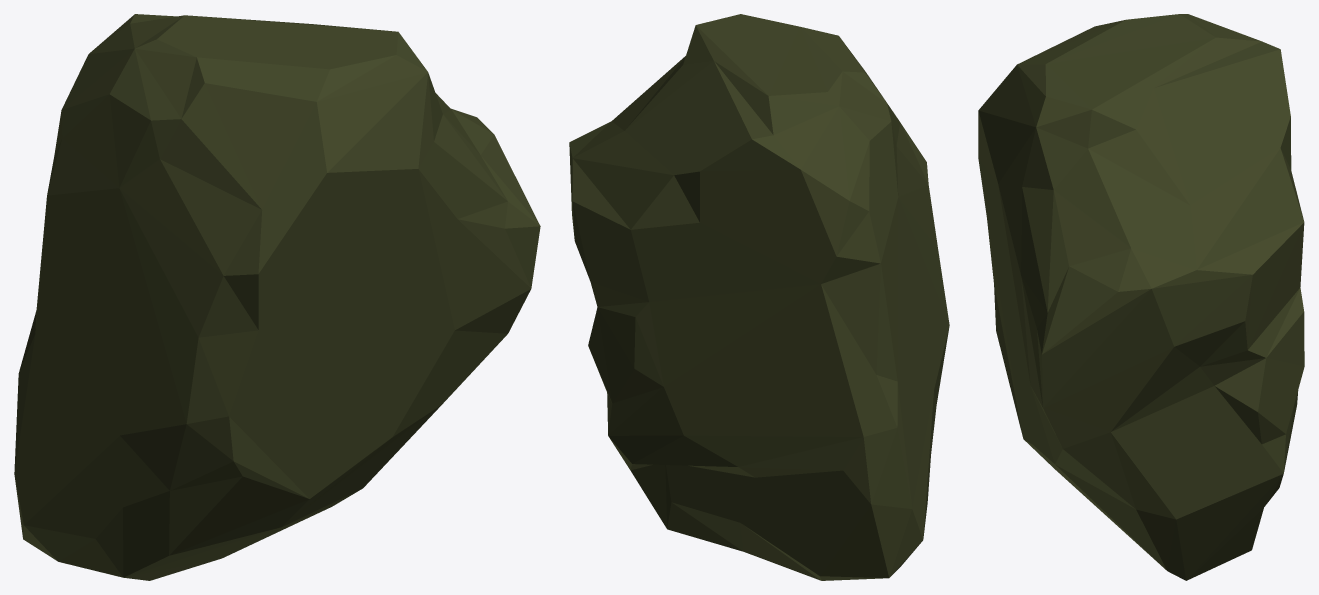
Rendered from SM_small_rock_10.fbx.
3 renders of one model, left to right at view 1: azimuth 30°, elevation 25°; view 2: azimuth 150°, elevation 25°; view 3: azimuth 270°, elevation 25°, orthographic. The views are drawn at different scales.
Visible parts, largest first — view 1: small_rock_10; view 2: small_rock_10; view 3: small_rock_10.
Part boxes in pixels (x1,y1,x2,y2): small_rock_10: [14, 14, 540, 580]; small_rock_10: [569, 14, 949, 580]; small_rock_10: [978, 14, 1304, 580].
Bounding box in the file's own units: 12.69 × 15.25 × 8.82.
